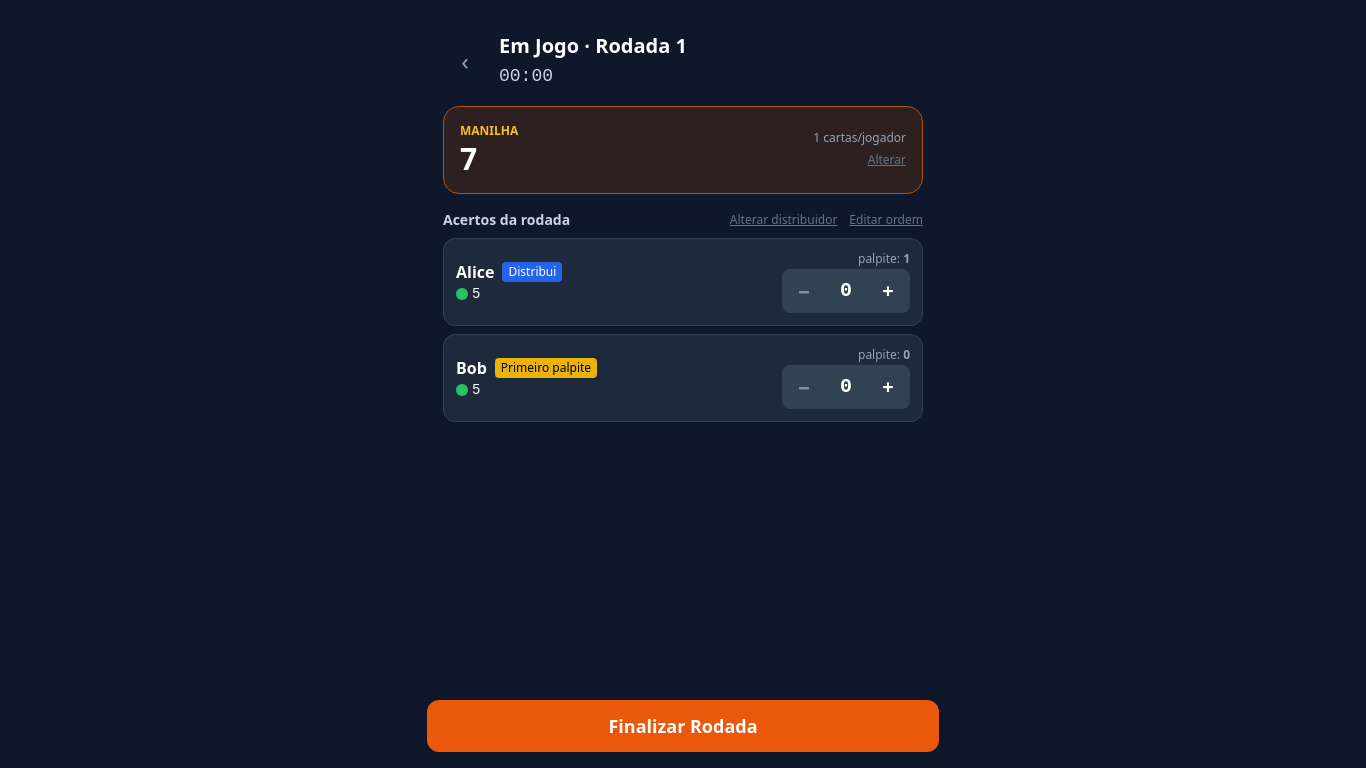
Test: PlayingPhase — tricks inputs › shows warning but still opens modal when tricks total does not equal cardsPerPlayer
Click the button "Finalizar Rodada" at {"x": 683, "y": 726}, box [427,700,939,752]
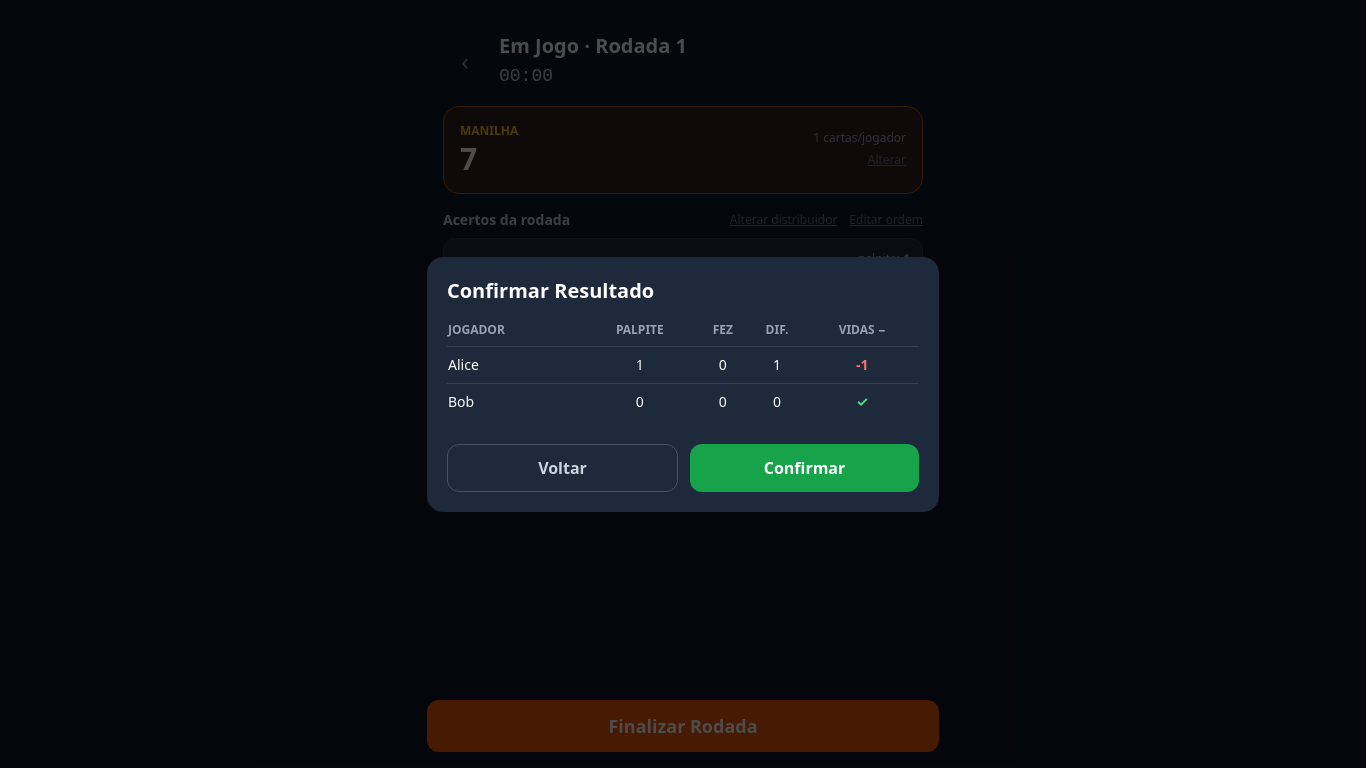
Now the text "⚠️ Total de vazas (0) ≠ cartas por jogador (1)" is shown, box [443,429,691,446]
Now the button "Confirmar" is shown, box [690,444,919,492]
